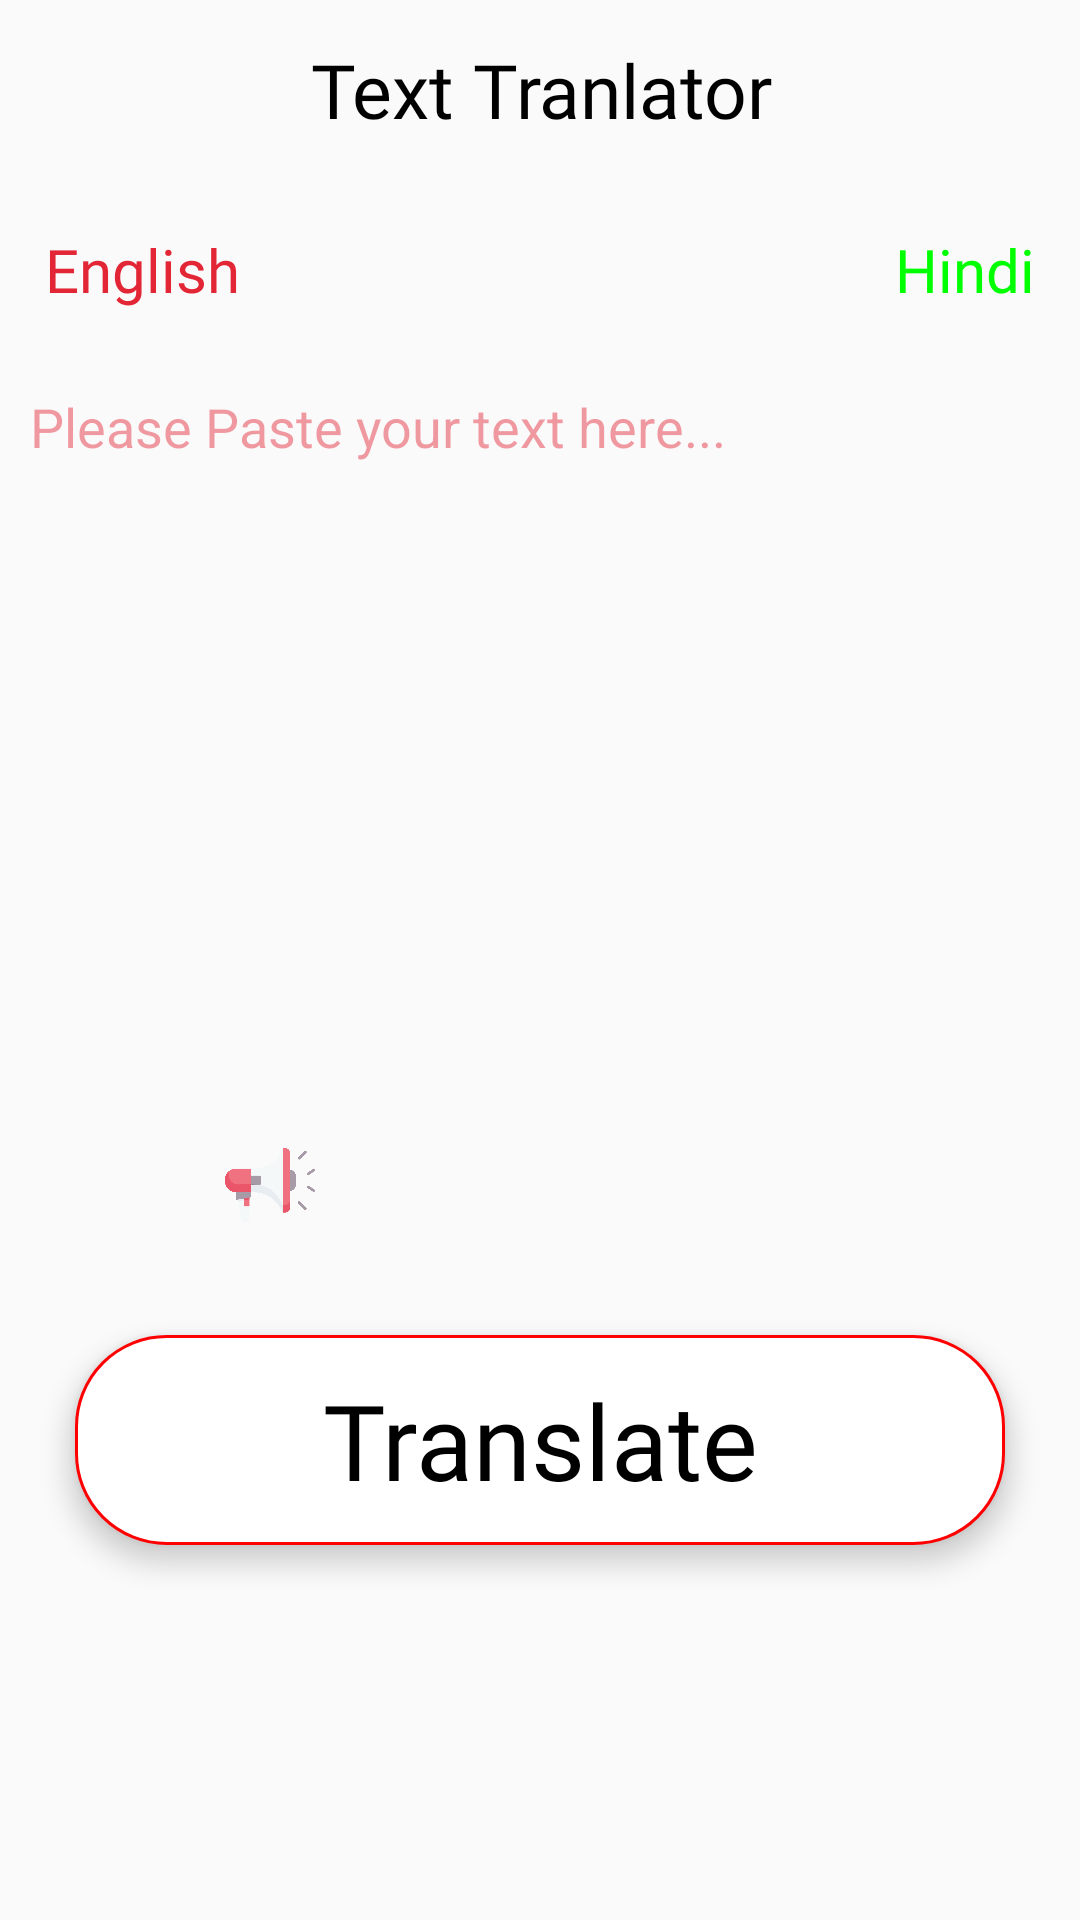

Icon bounding boxes for this 1080*1920 phone screenshot, format (x1, y1, x2, y2):
speak: (225, 1148, 315, 1213)
